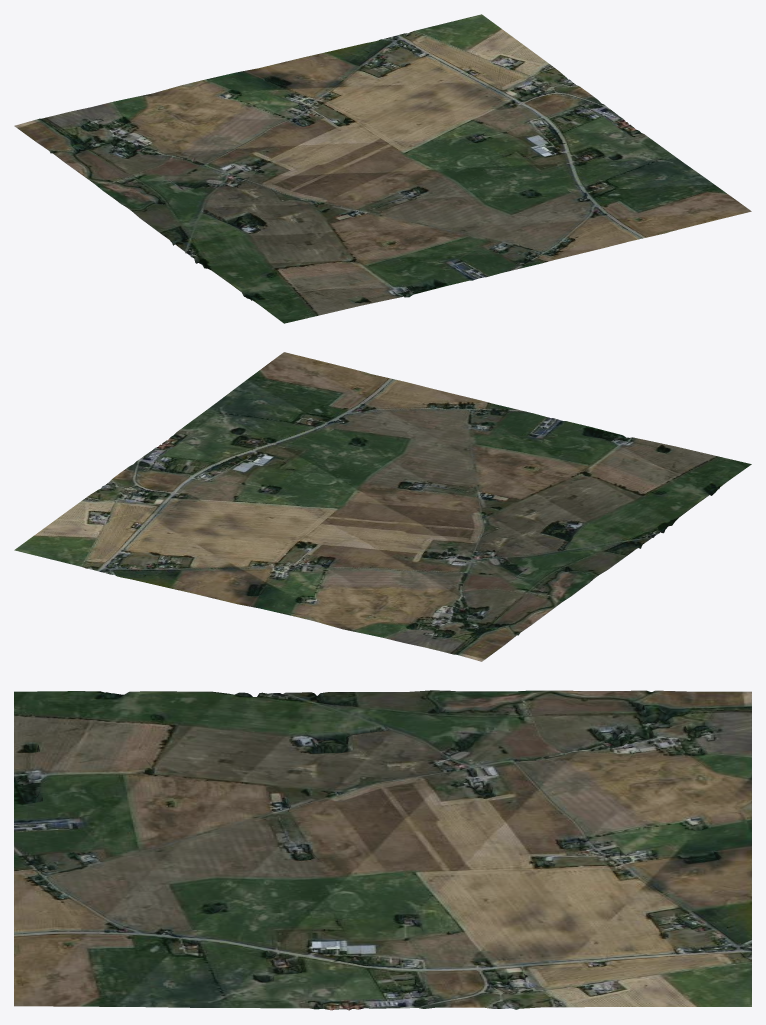
The model's file is map_10_252_429.dae.
3 views of the same model, one above another, from view 1: azimuth 30°, elevation 25°; view 2: azimuth 150°, elevation 25°; view 3: azimuth 270°, elevation 25° (orthographic). The views are drawn at different scales.
Parts seen in each view (by area): view 1: Ter0; view 2: Ter0; view 3: Ter0.
Boxes of the visible parts, x1,y1,x2,y2 form: Ter0: (14,14,751,323); Ter0: (14,352,751,661); Ter0: (14,690,751,1010).
Size of the model in its own units: 2044 by 2044 by 35.3.
3 materials, 3 textured.
